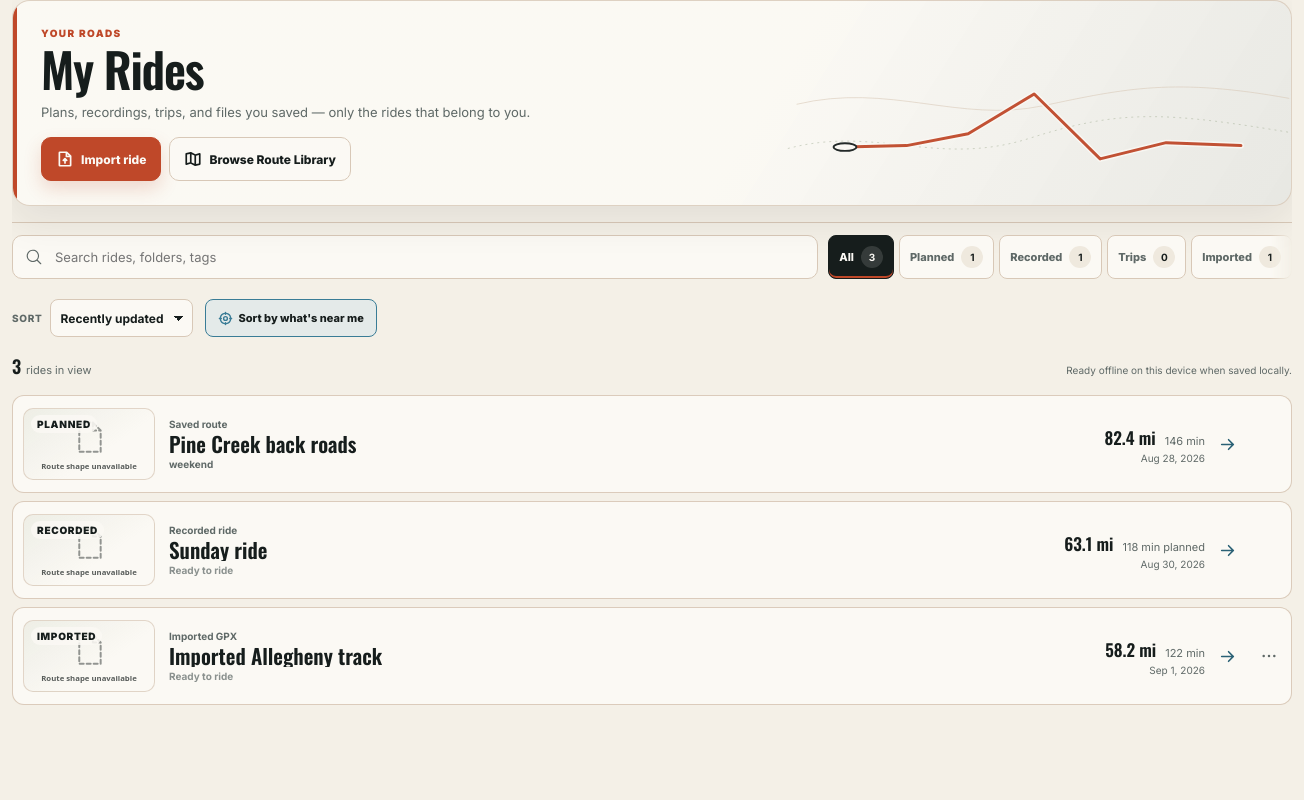
RidesSurface › keeps a personal imported file in Imported and out of Planned
The image size is (1304, 800).
Click the button "Imported 1": click(1242, 257) [1191,235,1292,279]
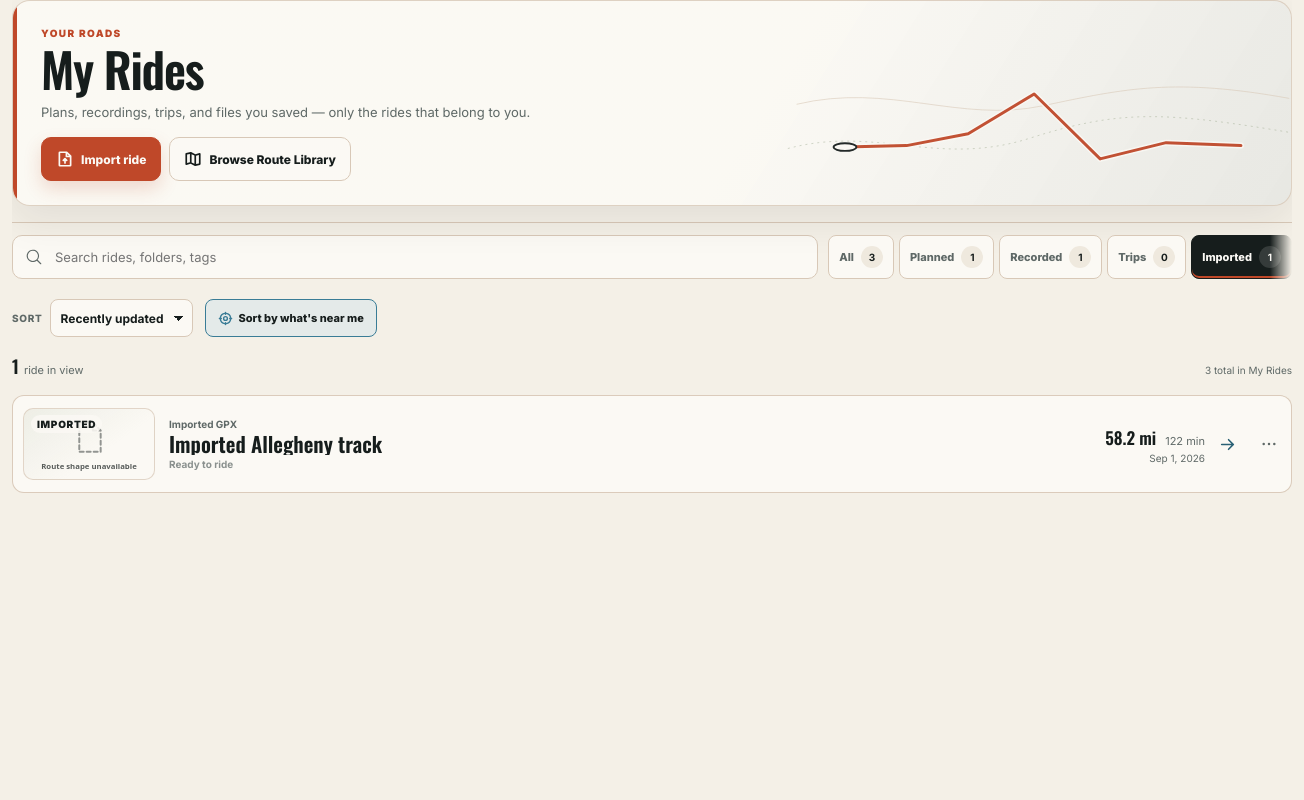
Expected: the text "Imported Allegheny track" is shown, [169,428,382,459]
Result: the button "Pine Creek back roads" is gone
Click the button "Planned 1": click(947, 257) [899,235,994,279]
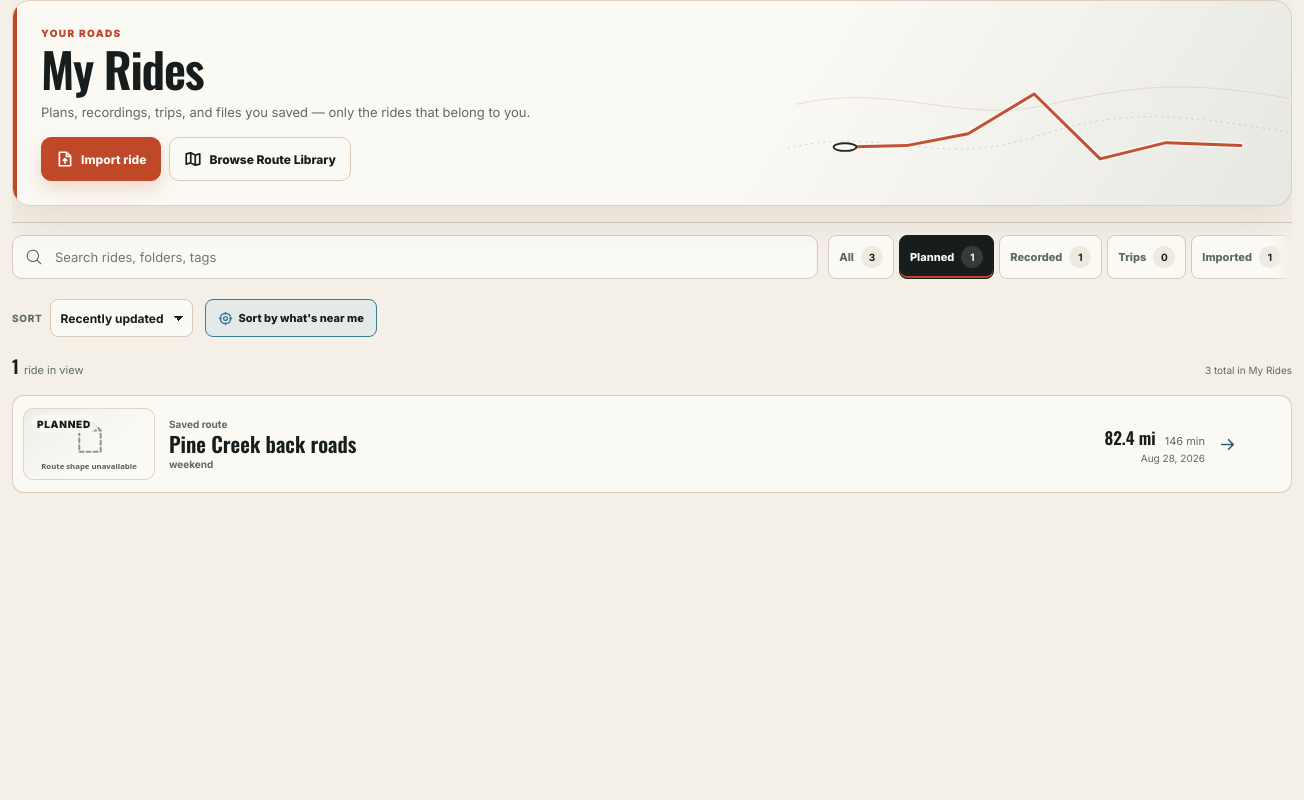
Result: the text "Pine Creek back roads" is shown at [169,428,356,459]
Result: the button "Imported Allegheny track" is gone
